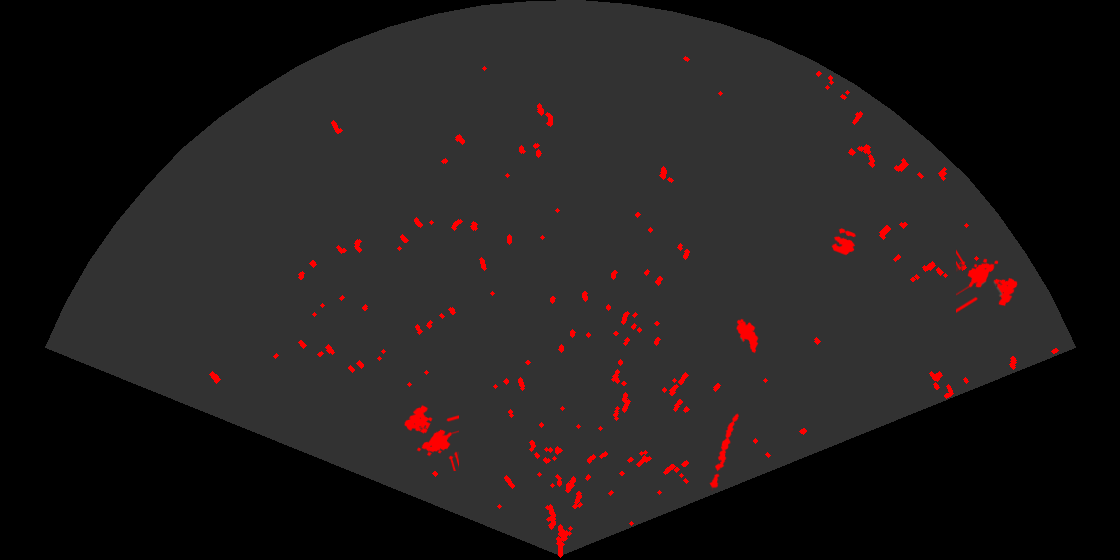AUV: (735, 317, 760, 355)
ball: (830, 227, 858, 257)
cage: (956, 248, 1019, 315), (403, 403, 459, 471)
chain: (708, 411, 740, 491)
